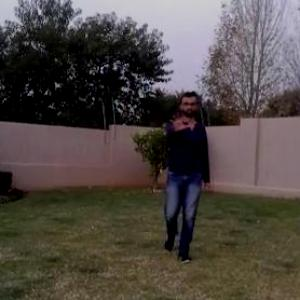follow_hand: (165, 104, 192, 132)
